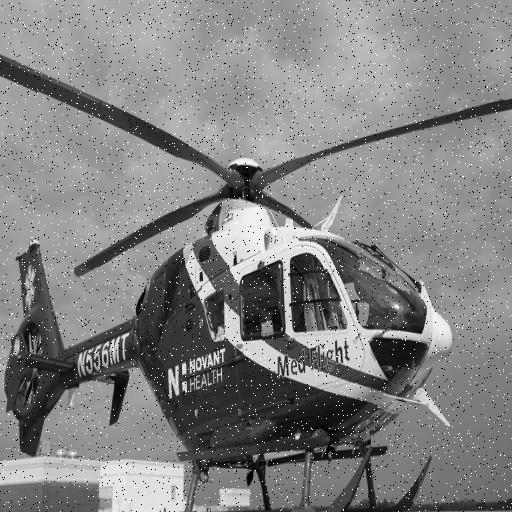helicopter: (1, 45, 512, 512)
